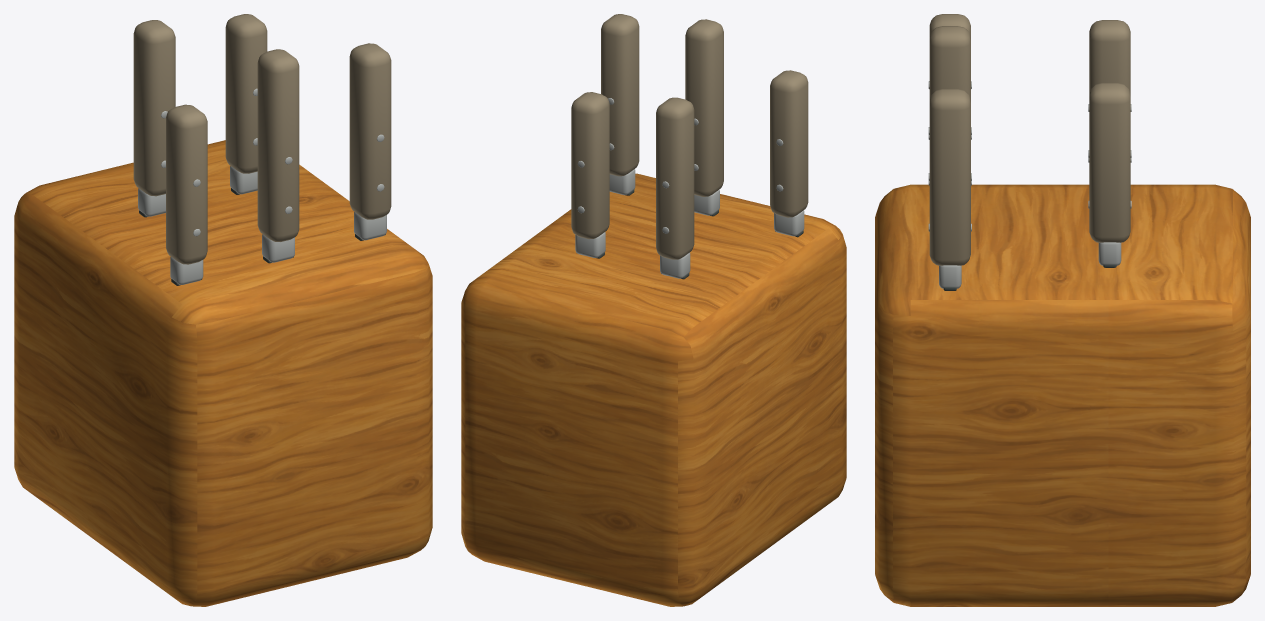
The model's file is knife-block.glb.
The picture shows the model from 3 angles, left to right: view 1: azimuth 30°, elevation 25°; view 2: azimuth 150°, elevation 25°; view 3: azimuth 270°, elevation 25°; orthographic projection. The views are drawn at different scales.
Visible parts, largest first — view 1: knife-block; view 2: knife-block; view 3: knife-block.
Boxes of the visible parts, x1,y1,x2,y2 form: knife-block: (14,14,432,606); knife-block: (461,14,846,606); knife-block: (875,14,1250,606).
Size of the model in its own units: 0.18 by 0.34 by 0.22.
Materials: 5 (1 with a texture image).
